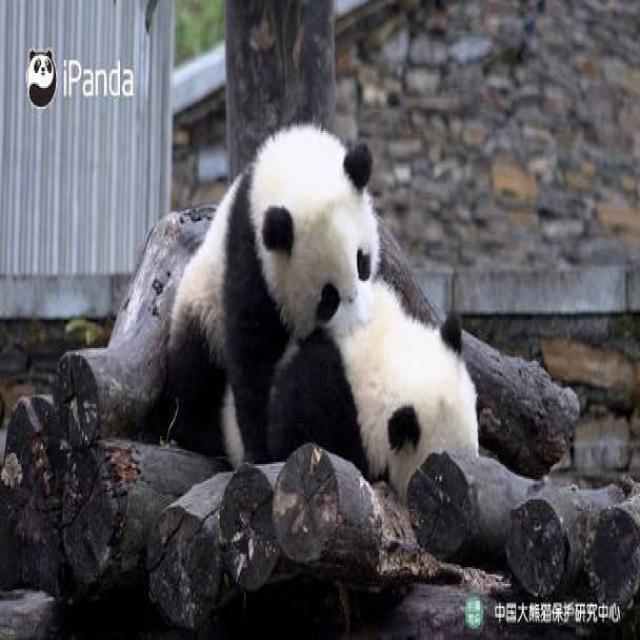panda: (168, 92, 522, 538)
